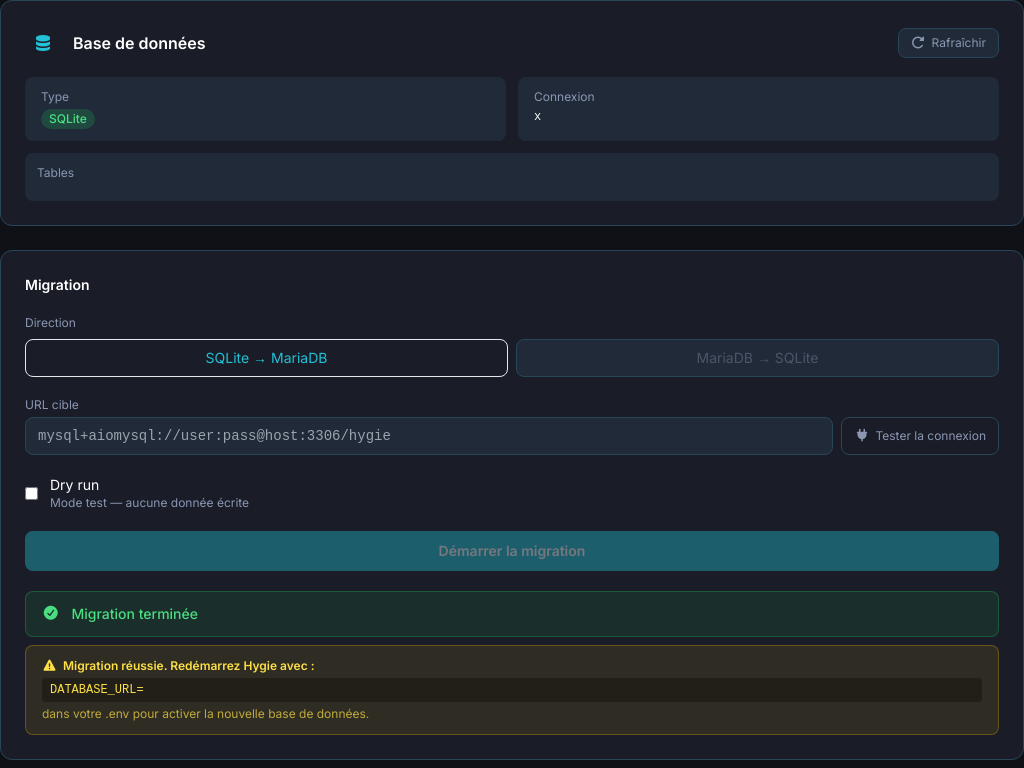
DatabaseTab › testConnection posts the target URL and shows a success result
Type "mysql://user:pass@host/db" into the field with placeholder "mysql+aiomysql://user:pass@host:3306/hygie". click: (429, 436)
box: [25,417,833,455]
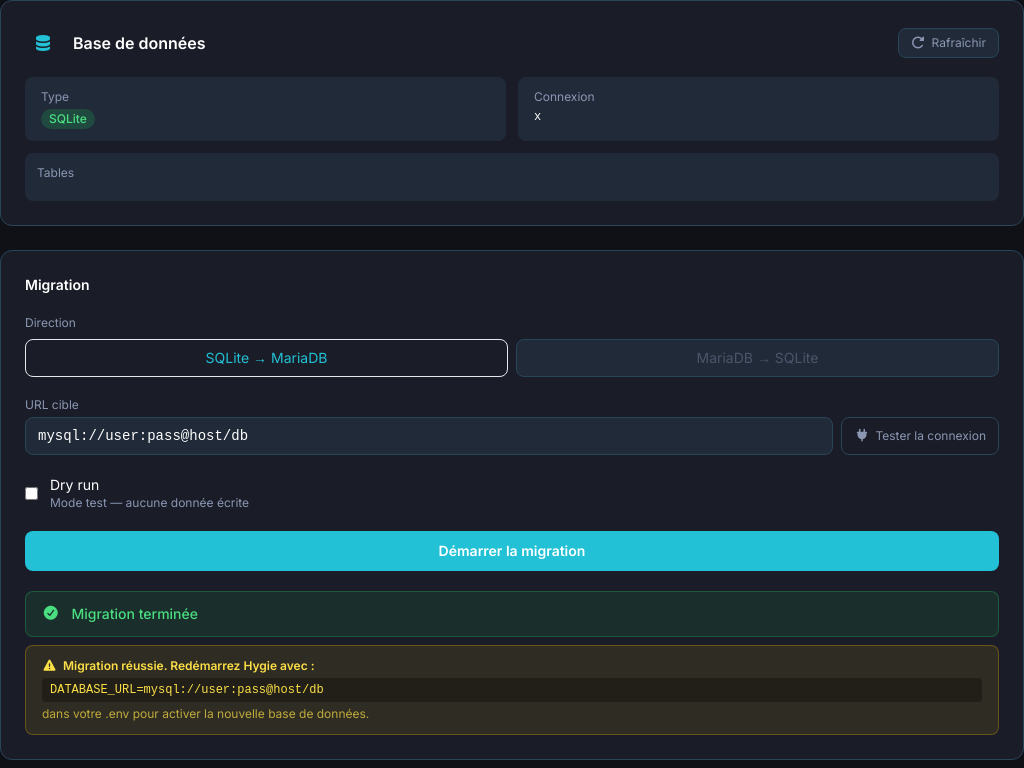
Click the button "Tester la connexion". click: (920, 436)
box: [841,417,999,455]
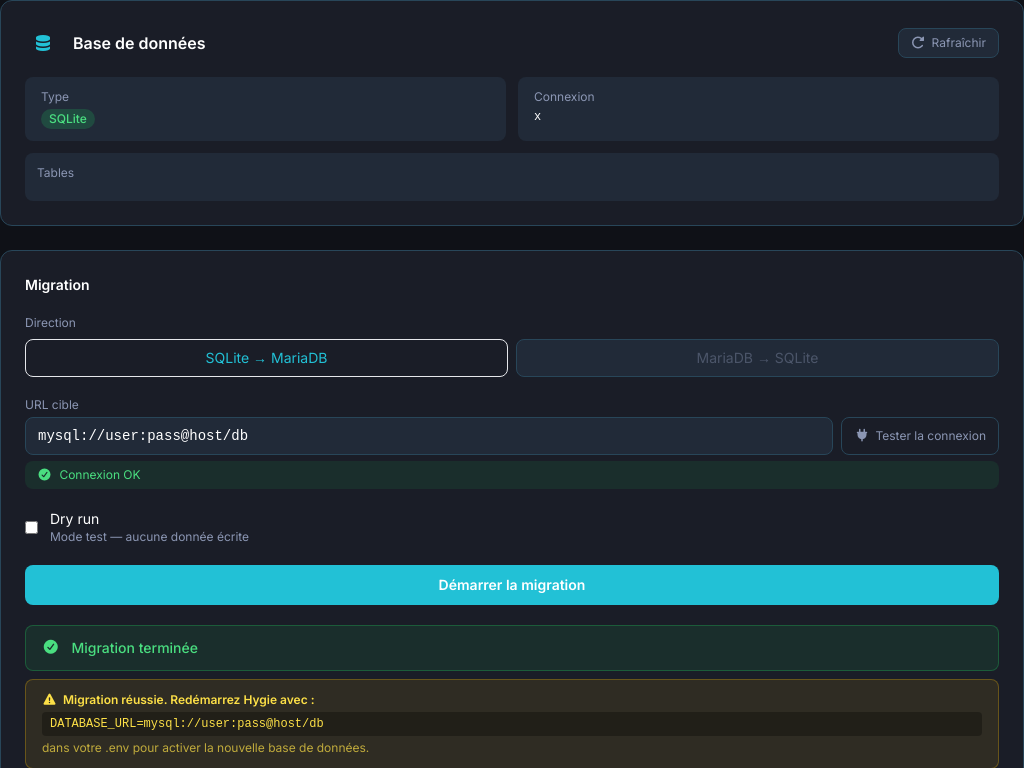
expect the text "Connexion OK" is shown: met, box [25,461,999,489]
